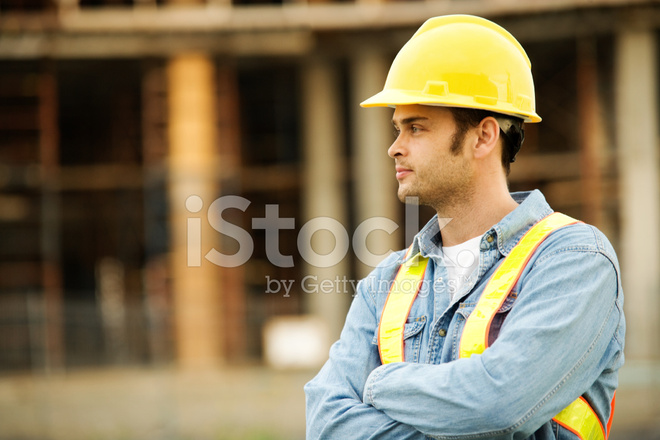Person_wearing_helmet: (352, 7, 554, 149)
